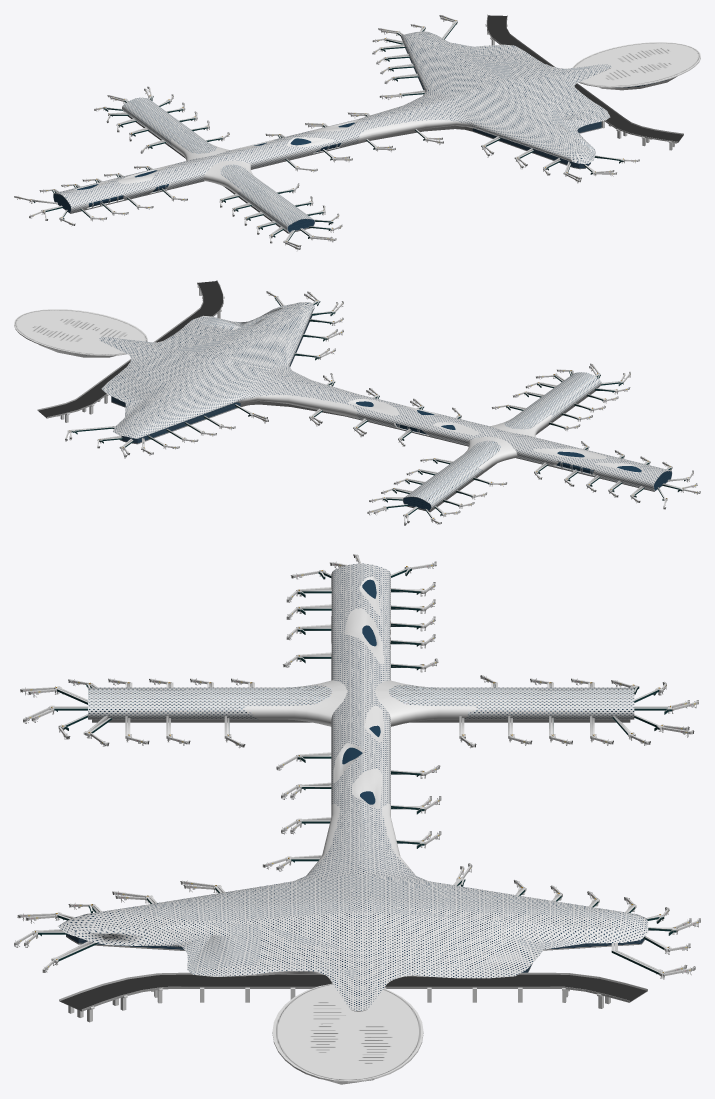
The model's file is 深圳宝安.blend-1.glb.
3 views of the same model, one above another, from view 1: azimuth 30°, elevation 25°; view 2: azimuth 150°, elevation 25°; view 3: azimuth 270°, elevation 25° (orthographic). The views are drawn at different scales.
Visible parts, largest first — view 1: 1号航站楼, 平面.001, 柱体.151, 平面.116, 大厅, 1楼; view 2: 1号航站楼, 平面.001, 柱体.151, 平面.116, 大厅, 1楼; view 3: 1号航站楼, 平面.001, 柱体.151, 平面.116, 1楼, 平面.115, 大厅.
Part boxes in pixels (left/top/right/bottom): 1号航站楼: left=53, top=31, right=611, bottom=213; 平面.001: left=122, top=97, right=315, bottom=232; 柱体.151: left=572, top=42, right=700, bottom=87; 平面.116: left=486, top=14, right=683, bottom=142; 大厅: left=405, top=48, right=601, bottom=169; 1楼: left=59, top=116, right=370, bottom=233; 1号航站楼: left=99, top=302, right=672, bottom=491; 平面.001: left=402, top=372, right=601, bottom=510; 柱体.151: left=14, top=309, right=147, bottom=355; 平面.116: left=37, top=280, right=223, bottom=418; 大厅: left=111, top=315, right=312, bottom=444; 1楼: left=345, top=390, right=667, bottom=512; 1号航站楼: left=58, top=563, right=648, bottom=1011; 平面.001: left=88, top=680, right=634, bottom=726; 柱体.151: left=272, top=983, right=423, bottom=1082; 平面.116: left=59, top=972, right=647, bottom=1011; 1楼: left=92, top=719, right=630, bottom=722; 平面.115: left=68, top=987, right=610, bottom=1022; 大厅: left=66, top=934, right=644, bottom=972.
Bounding box in the file's own units: 1397 × 46.33 × 756.
Materials: 35 (17 with a texture image).
